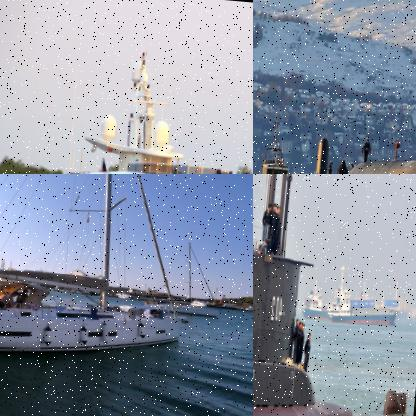Merchant Ship: (326, 262, 402, 328), (300, 277, 332, 320)
Patrol Boat: (253, 118, 302, 173)
Sails Boat: (0, 174, 206, 369), (148, 239, 224, 318)
Submarine: (253, 174, 415, 415), (290, 0, 415, 173)
Yacht: (0, 40, 252, 173)
